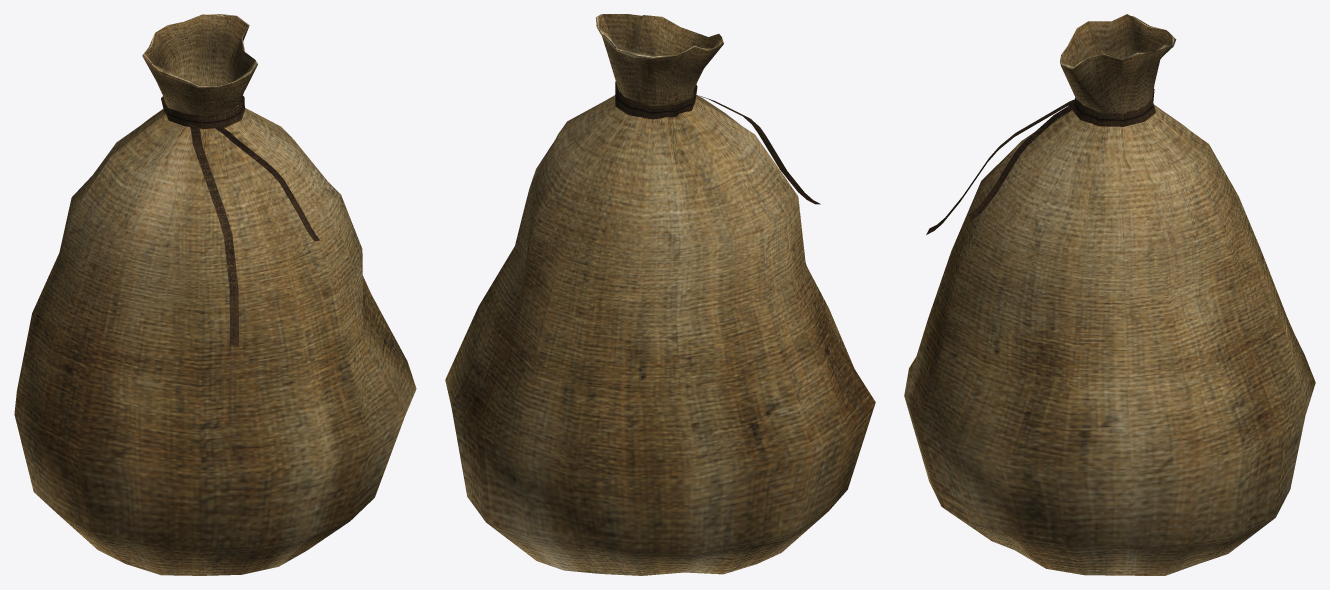
File: Sneeze Powder.fbx
3 views of the same model, side by side, from view 1: azimuth 30°, elevation 25°; view 2: azimuth 150°, elevation 25°; view 3: azimuth 270°, elevation 25° (orthographic). The views are drawn at different scales.
Visible parts, largest first — view 1: Sphere01_0; view 2: Sphere01_0; view 3: Sphere01_0.
Part boxes in pixels (box(x1,y1,x2,y2)): Sphere01_0: box(14, 14, 416, 575); Sphere01_0: box(445, 14, 875, 575); Sphere01_0: box(904, 14, 1315, 575).
Size of the model in its own units: 4857 by 6499 by 4836.
